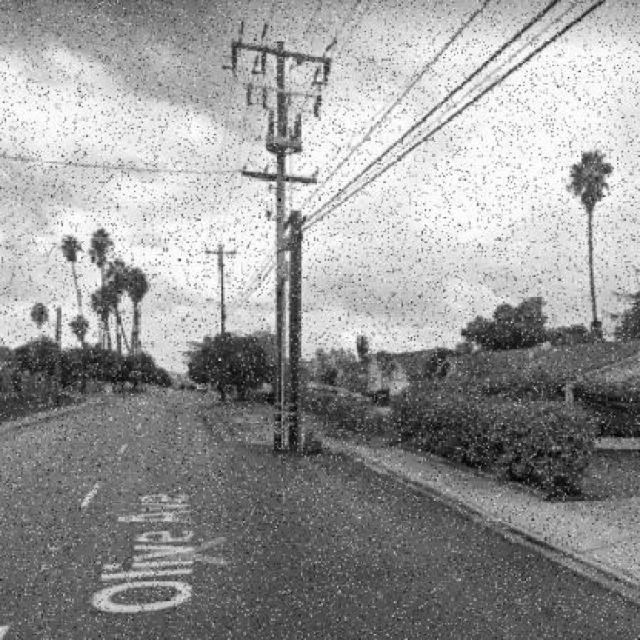pole: (225, 29, 322, 473), (201, 224, 242, 398)
